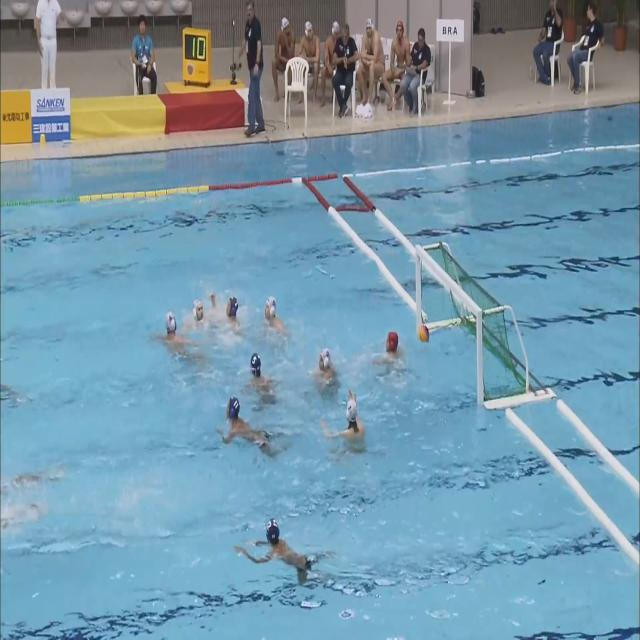ball: (419, 325, 429, 343)
